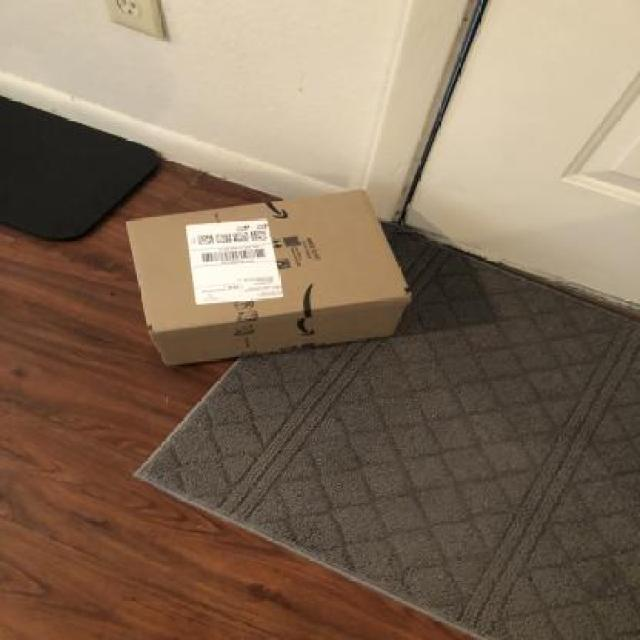cardboxes: (117, 185, 426, 379)
